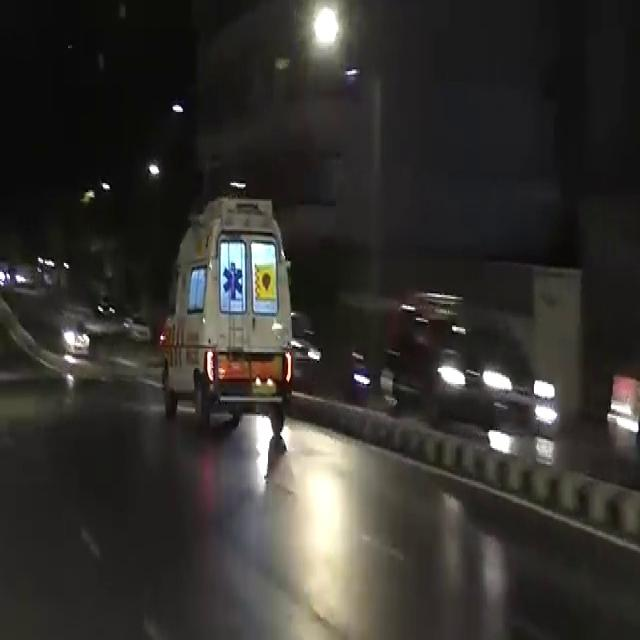ambulance: (154, 180, 296, 440)
